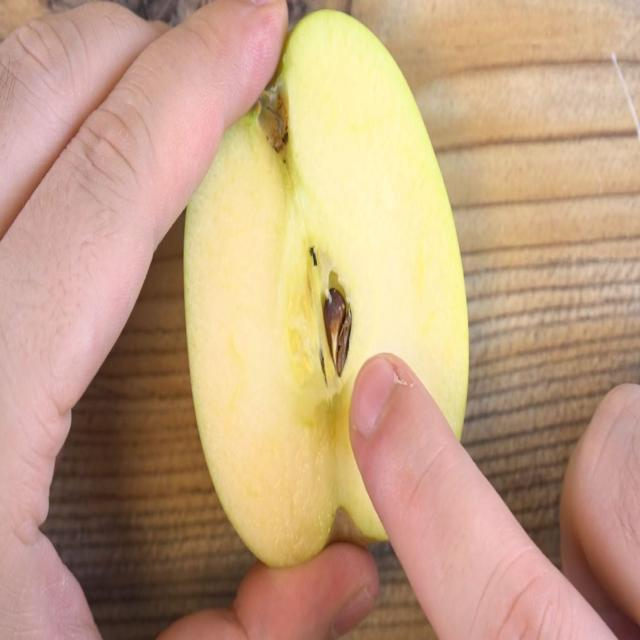manzana: (183, 19, 488, 553)
